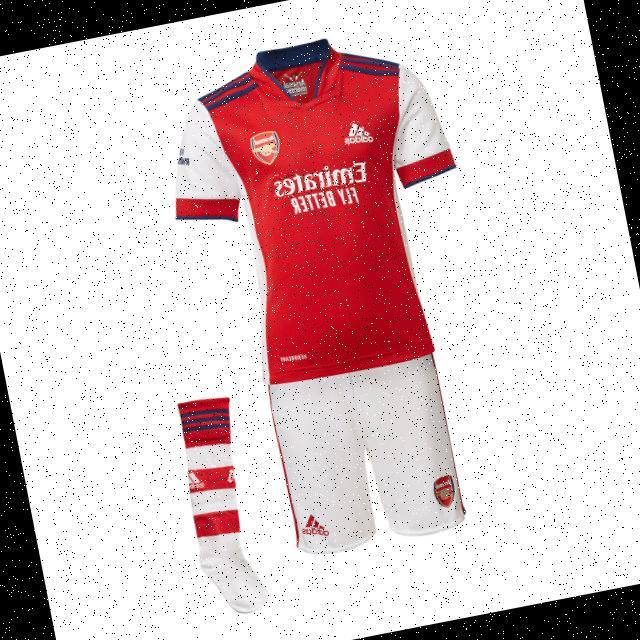Adidas: (299, 511, 331, 545), (340, 118, 375, 149), (185, 467, 207, 494)
Emirates: (271, 157, 370, 201)
